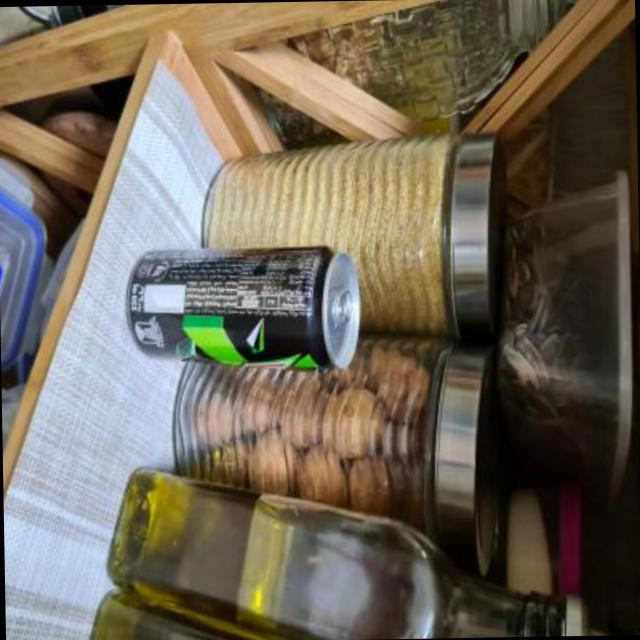metal: (128, 247, 359, 365)
